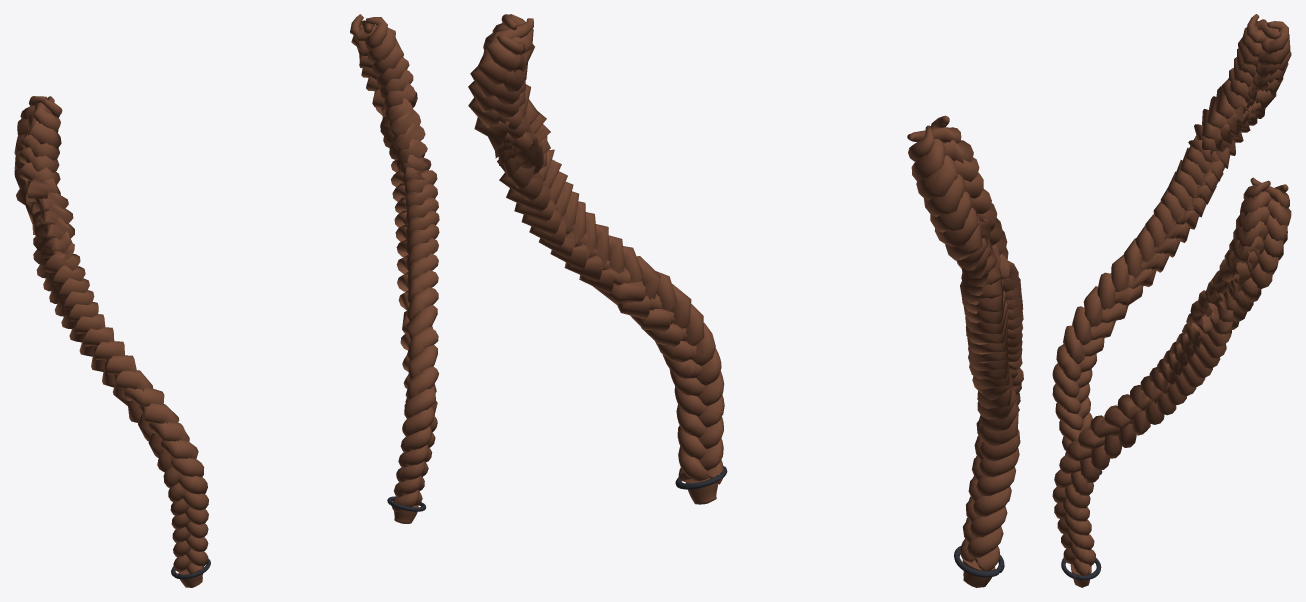
The model's file is twins-none-tank-default.glb.
The picture shows the model from 3 angles, left to right: view 1: azimuth 30°, elevation 25°; view 2: azimuth 150°, elevation 25°; view 3: azimuth 270°, elevation 25°; orthographic projection. The views are drawn at different scales.
Parts seen in each view (by area): view 1: 226 hairLengths / Hair / chestnut226; view 2: 226 hairLengths / Hair / chestnut226, 226 hairLengths / Hair / ties226; view 3: 226 hairLengths / Hair / chestnut226, 226 hairLengths / Hair / ties226.
Boxes of the visible parts, <box> form: 226 hairLengths / Hair / chestnut226: <box>14,14,439,587</box>; 226 hairLengths / Hair / chestnut226: <box>468,14,1023,587</box>; 226 hairLengths / Hair / ties226: <box>675,466,1004,577</box>; 226 hairLengths / Hair / chestnut226: <box>1052,14,1291,587</box>; 226 hairLengths / Hair / ties226: <box>1061,470,1102,580</box>.
Size of the model in its own units: 0.8713 by 0.9289 by 0.4504.
